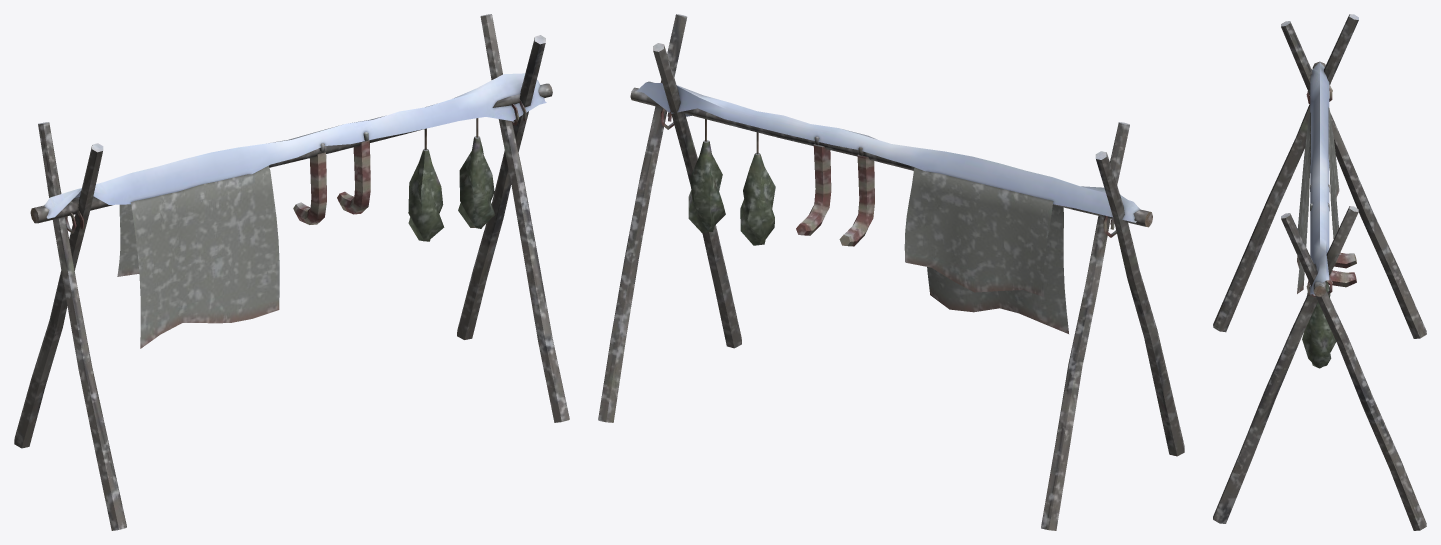
Rendered from fm_drying_rack_frost.glb.
3 views of the same model, side by side, from view 1: azimuth 30°, elevation 25°; view 2: azimuth 150°, elevation 25°; view 3: azimuth 270°, elevation 25° (orthographic). The views are drawn at different scales.
Parts seen in each view (by area): view 1: fm_drying_rack_frost; view 2: fm_drying_rack_frost; view 3: fm_drying_rack_frost.
Boxes of the visible parts, x1,y1,x2,y2 form: fm_drying_rack_frost: [14, 14, 569, 530]; fm_drying_rack_frost: [598, 14, 1184, 530]; fm_drying_rack_frost: [1213, 14, 1426, 530].
Bounding box in the file's own units: 2 × 1.32 × 0.8098.
Materials: 1 (1 with a texture image).
